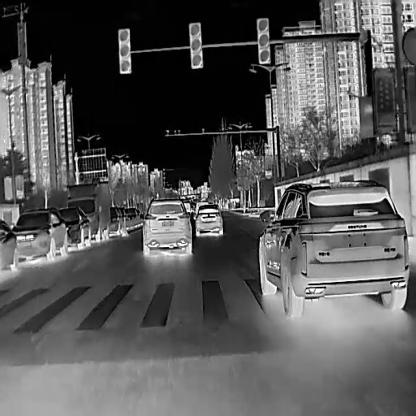car: (257, 177, 410, 318), (10, 205, 67, 261), (138, 195, 191, 253), (65, 180, 109, 240), (55, 204, 89, 247), (192, 202, 222, 235), (109, 205, 121, 234), (123, 206, 139, 222)
